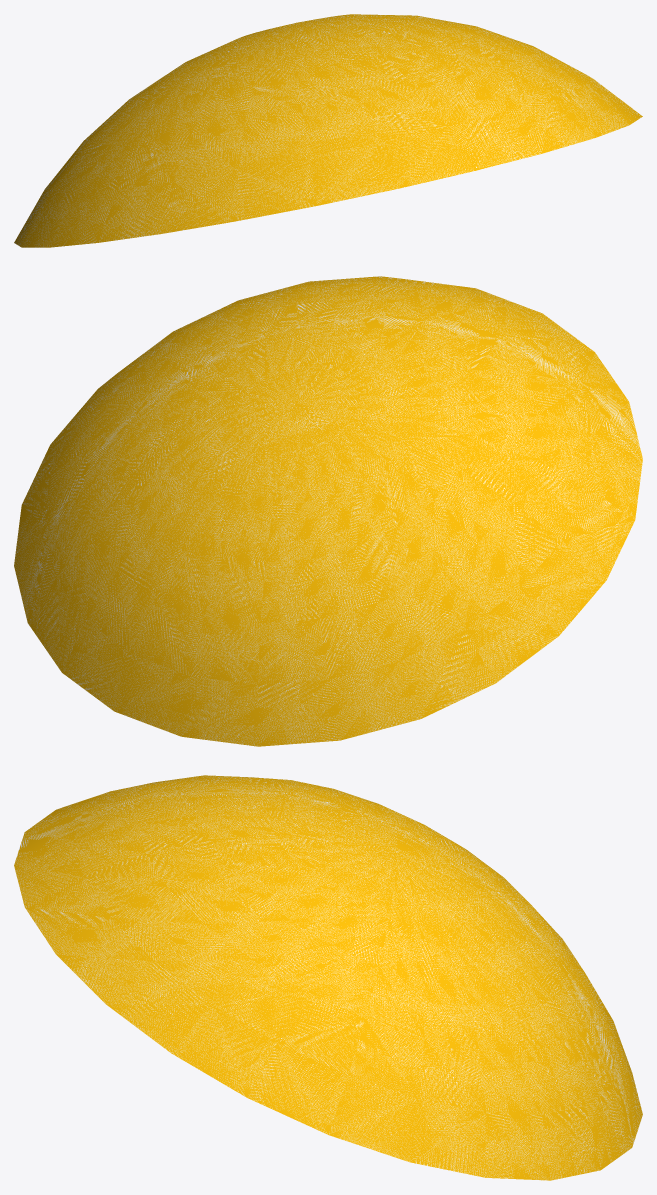
Rendered from original-132.obj.
3 renders of one model, top to bottom at view 1: azimuth 30°, elevation 25°; view 2: azimuth 150°, elevation 25°; view 3: azimuth 270°, elevation 25°, orthographic. The views are drawn at different scales.
Visible parts, largest first — view 1: Wooden_Plug12_1/Wooden_Plug/mesh1/mesh1-geometry#mesh1-geometry; view 2: Wooden_Plug12_1/Wooden_Plug/mesh1/mesh1-geometry#mesh1-geometry; view 3: Wooden_Plug12_1/Wooden_Plug/mesh1/mesh1-geometry#mesh1-geometry.
Part boxes in pixels (box(x1,y1,x2,y2)): Wooden_Plug12_1/Wooden_Plug/mesh1/mesh1-geometry#mesh1-geometry: box(14, 14, 642, 247); Wooden_Plug12_1/Wooden_Plug/mesh1/mesh1-geometry#mesh1-geometry: box(14, 276, 642, 746); Wooden_Plug12_1/Wooden_Plug/mesh1/mesh1-geometry#mesh1-geometry: box(14, 775, 642, 1180).
Bounding box in the file's own units: 0.0221 × 0.0106 × 0.0202.
